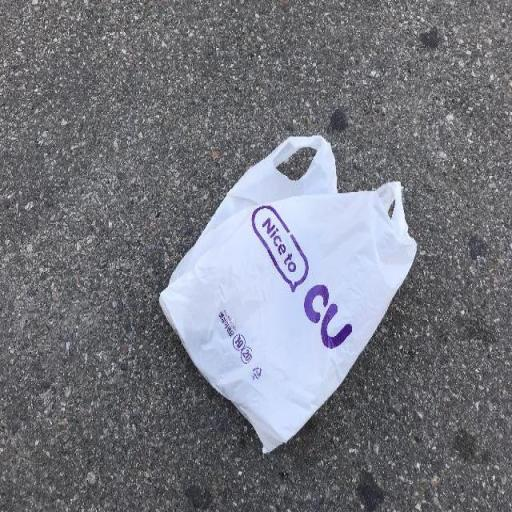plastic-bag: (157, 130, 419, 456)
